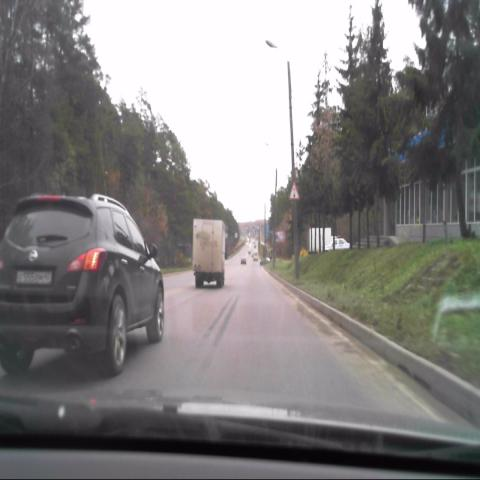1_8: (288, 182, 300, 200)
